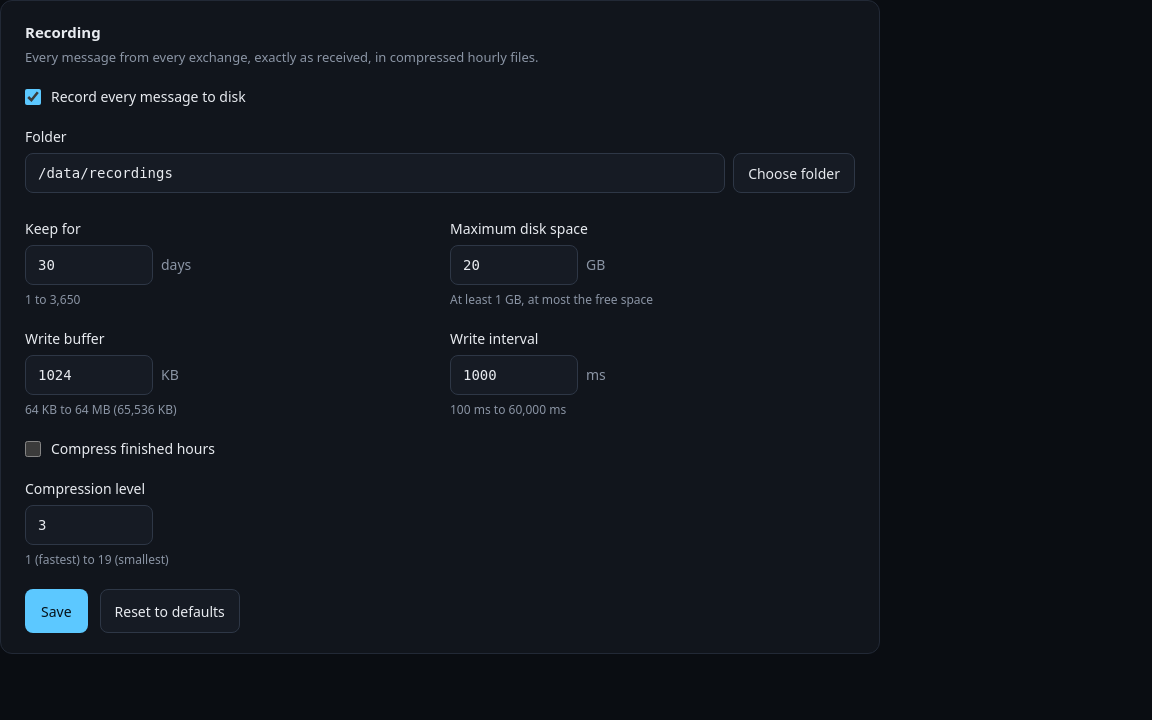
Test: RecordingSettingsForm › fills the form with the defaults on reset
The image size is (1152, 720).
Expected: the field labelled "Keep for" holds "30", [25,245,153,285]
Step 1. Click the button "Reset to defaults" → coordinates (170, 611), box [100,589,240,633]
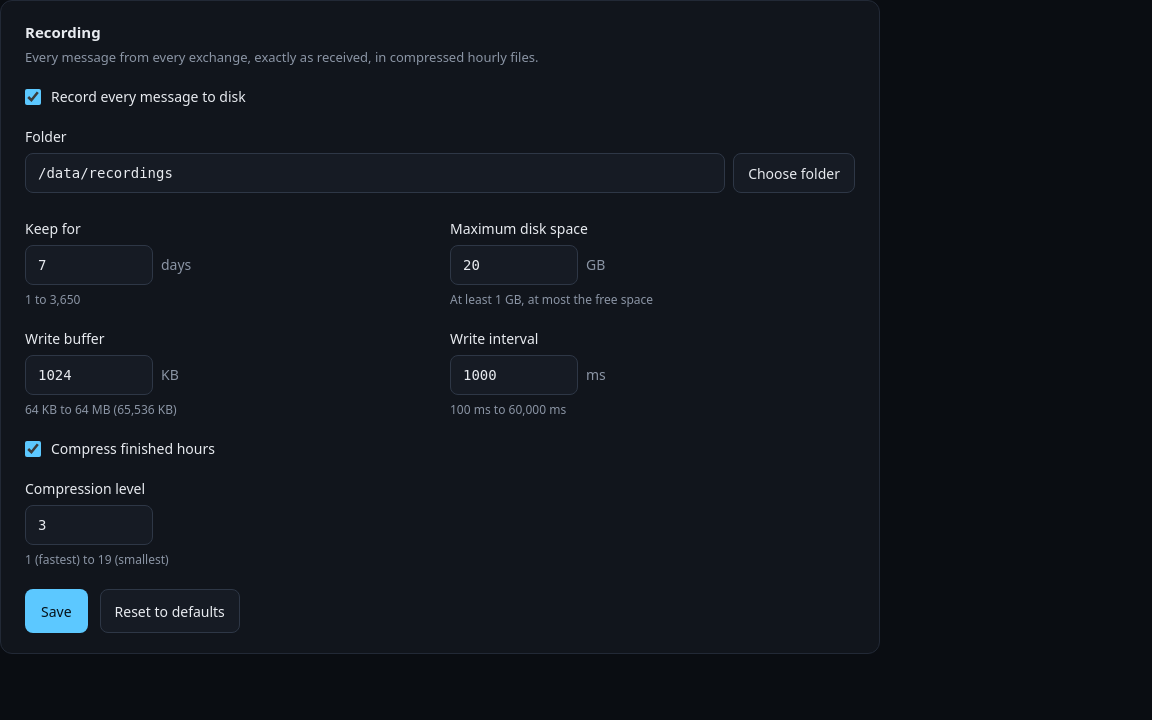
Result: the field labelled "Keep for" holds "7" at [25,245,153,285]
Result: the checkbox labelled "Compress finished hours" is checked at [25,441,41,457]
